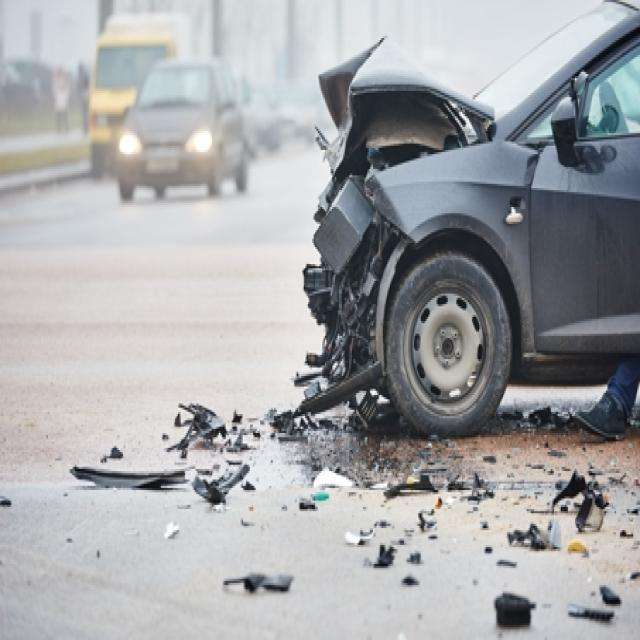Accident: (267, 0, 640, 439)
